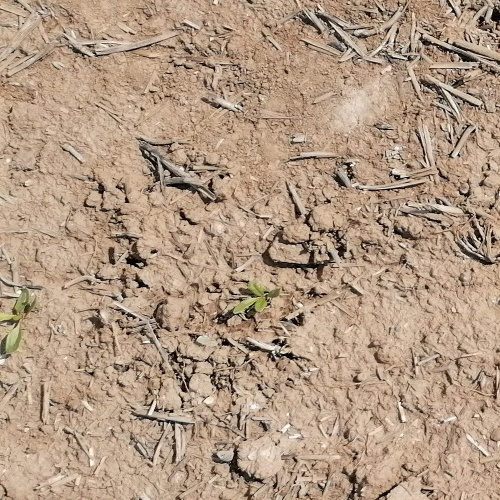beet: (0, 286, 39, 353), (231, 282, 282, 315)
